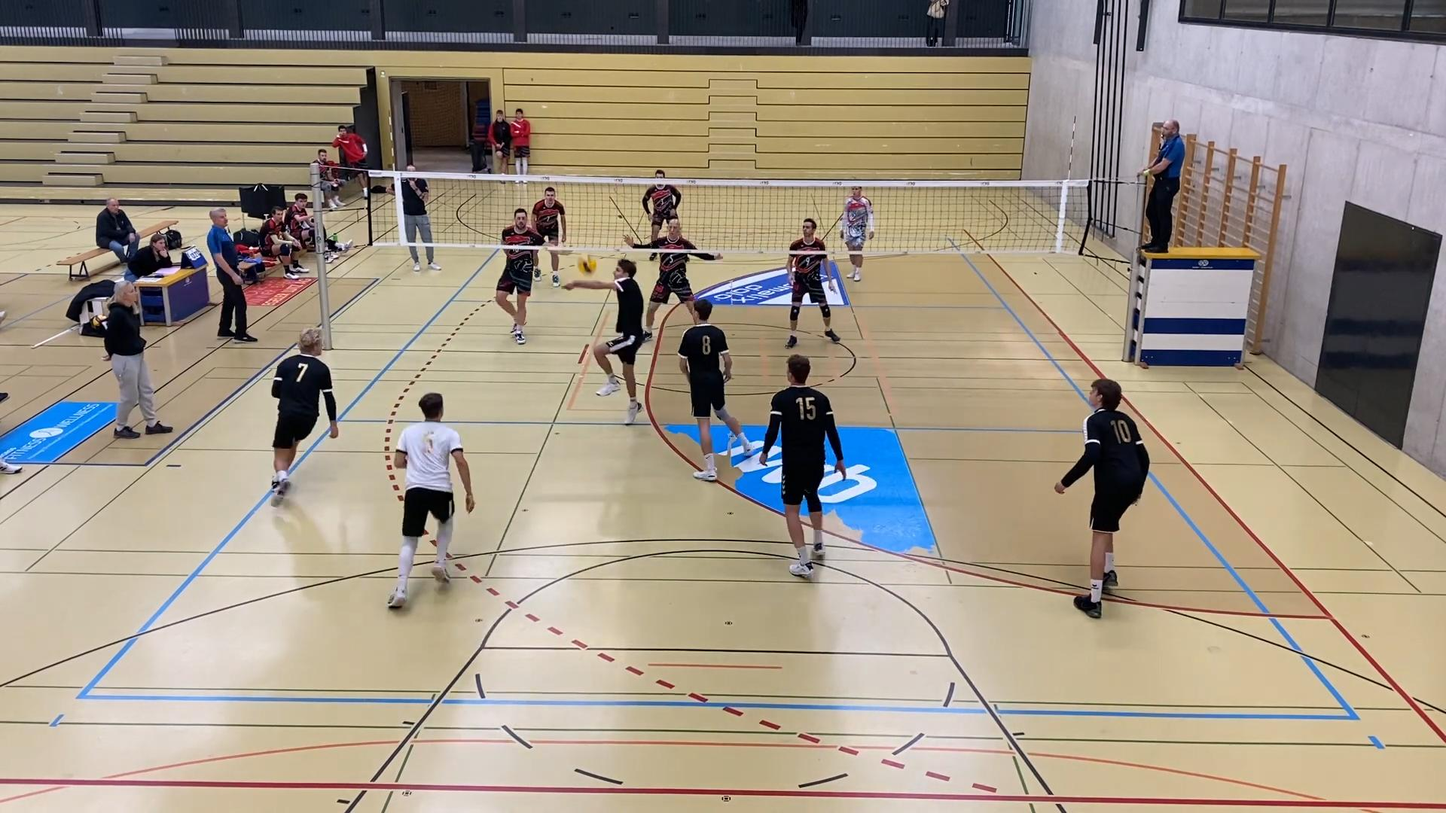Player: (1054, 379, 1149, 617), (759, 354, 846, 577), (388, 393, 474, 607), (679, 300, 754, 480), (623, 217, 721, 340), (271, 327, 338, 504), (786, 218, 840, 348), (495, 209, 544, 344), (840, 186, 874, 281), (642, 169, 681, 240), (532, 187, 566, 246)
Set: (564, 248, 650, 422)
ball: (574, 249, 600, 283)
